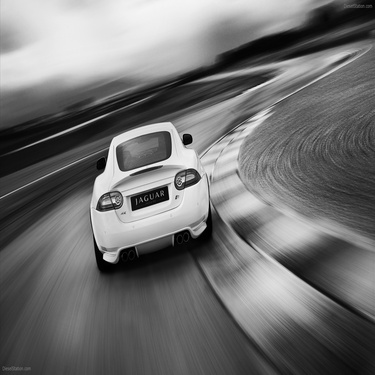car: (79, 121, 216, 275)
